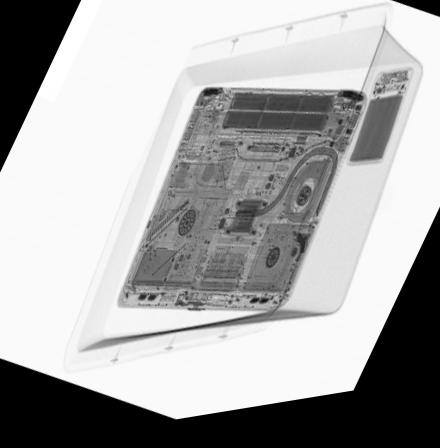Powerbank: (341, 80, 413, 185)
